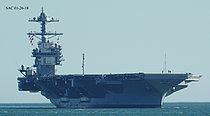MIL_Ship: (17, 6, 200, 108)
